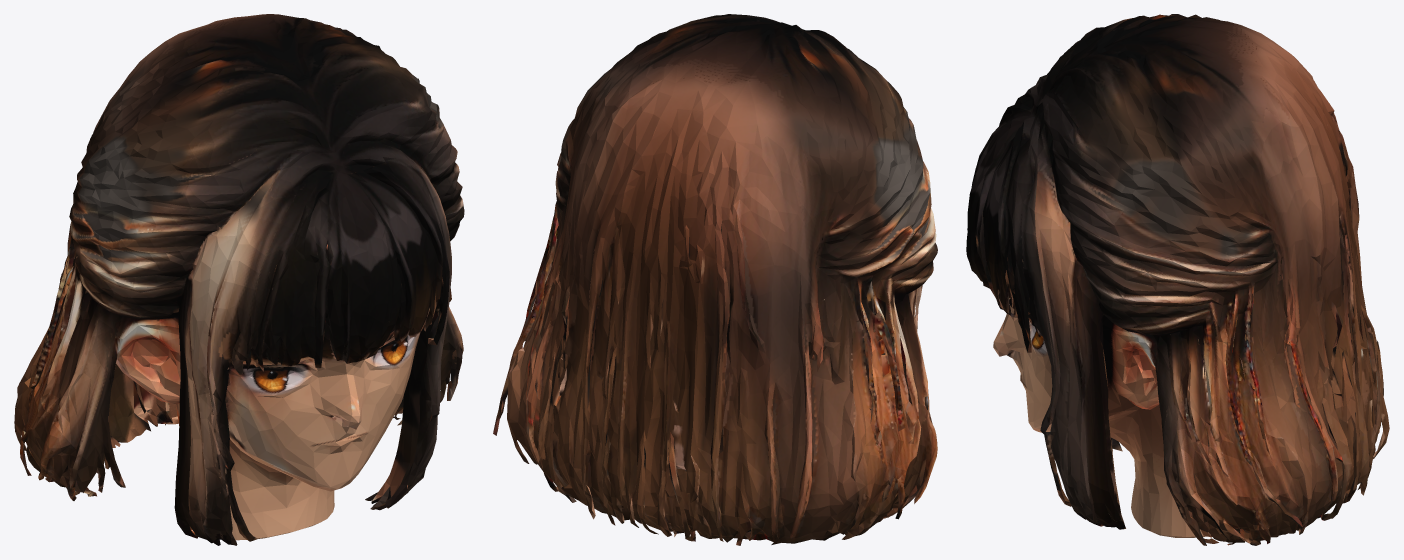
The model's file is side_ozaki_repaired_atlas.glb.
3 views of the same model, side by side, from view 1: azimuth 30°, elevation 25°; view 2: azimuth 150°, elevation 25°; view 3: azimuth 270°, elevation 25° (orthographic). The views are drawn at different scales.
Visible parts, largest first — view 1: temp_mesh.ply; view 2: temp_mesh.ply; view 3: temp_mesh.ply.
Part boxes in pixels (x1,y1,x2,y2): temp_mesh.ply: [14, 14, 464, 545]; temp_mesh.ply: [493, 14, 937, 545]; temp_mesh.ply: [966, 14, 1389, 545].
Bounding box in the file's own units: 1.78 × 1.97 × 1.6.
Materials: 1 (1 with a texture image).
